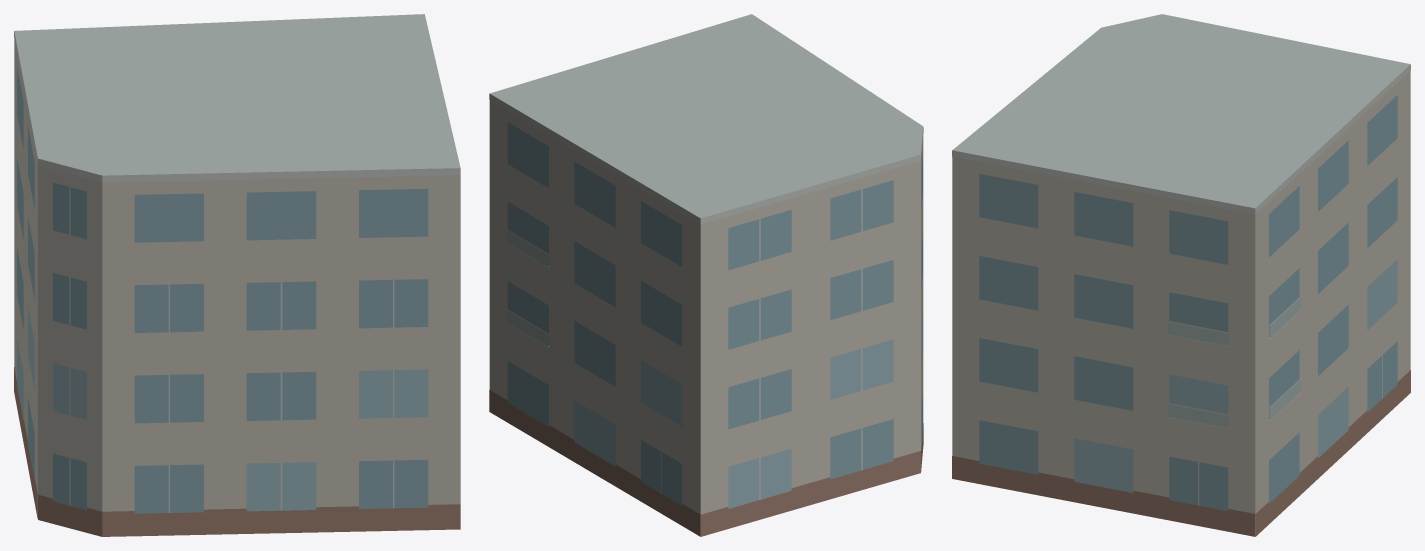
The model's file is survey-upis-33033706.glb.
3 views of the same model, side by side, from view 1: azimuth 30°, elevation 25°; view 2: azimuth 150°, elevation 25°; view 3: azimuth 270°, elevation 25° (orthographic). The views are drawn at different scales.
Parts seen in each view (by area): view 1: survey-upis-33033706.tmp; view 2: survey-upis-33033706.tmp; view 3: survey-upis-33033706.tmp.
Part boxes in pixels (x1,y1,x2,y2): survey-upis-33033706.tmp: [14, 14, 460, 536]; survey-upis-33033706.tmp: [489, 14, 923, 536]; survey-upis-33033706.tmp: [952, 14, 1410, 536].
Size of the model in its own units: 16.13 by 12.7 by 16.08.
